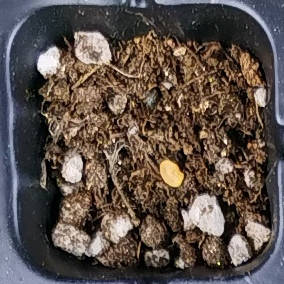pepper seed: (66, 65, 251, 254)
